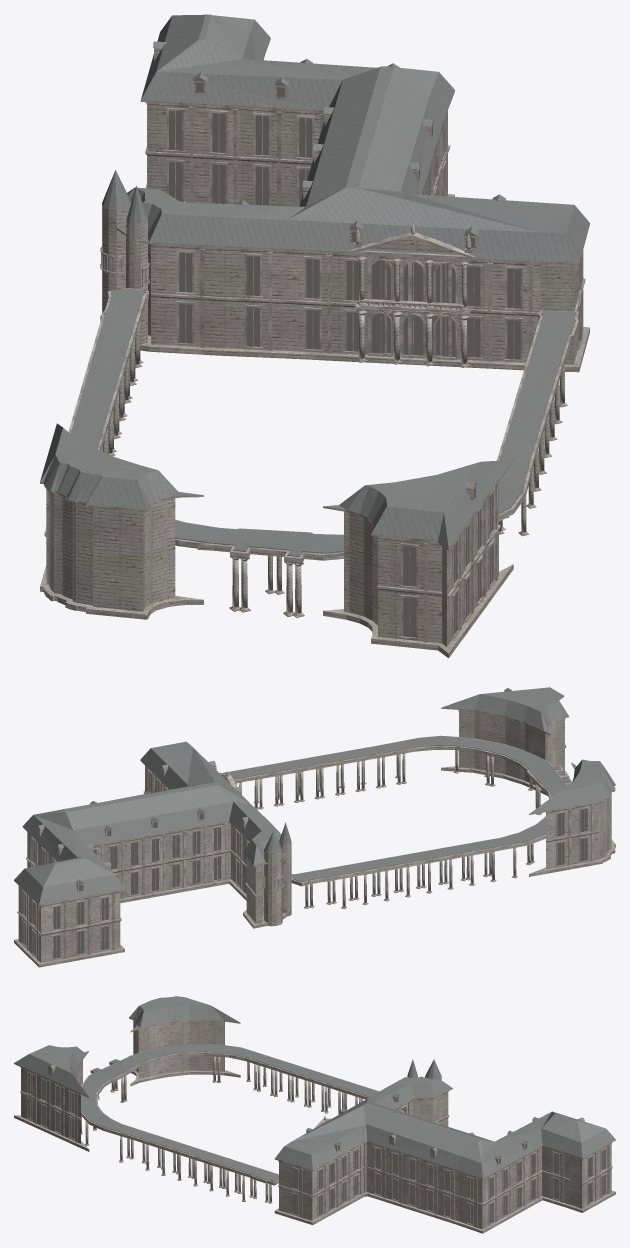
The model's file is hotel-de-soubise.glb.
3 renders of one model, top to bottom at view 1: azimuth 30°, elevation 25°; view 2: azimuth 150°, elevation 25°; view 3: azimuth 270°, elevation 25°, orthographic. The views are drawn at different scales.
Parts seen in each view (by area): view 1: roof, stone, trim, window; view 2: roof, stone, trim, window; view 3: stone, roof, trim, window.
Boxes of the visible parts, x1=… form: roof: x1=40, y1=14, x2=589, y2=556; stone: x1=40, y1=48, x2=589, y2=658; trim: x1=40, y1=38, x2=589, y2=642; window: x1=169, y1=82, x2=579, y2=637; roof: x1=14, y1=687, x2=615, y2=904; stone: x1=14, y1=710, x2=615, y2=967; trim: x1=14, y1=696, x2=615, y2=960; window: x1=23, y1=768, x2=587, y2=958; stone: x1=14, y1=1020, x2=615, y2=1233; roof: x1=14, y1=996, x2=615, y2=1181; trim: x1=14, y1=1018, x2=615, y2=1227; window: x1=28, y1=1068, x2=605, y2=1224.
Size of the model in its own units: 88.78 by 19 by 130.
Materials: 4 (4 with a texture image).
